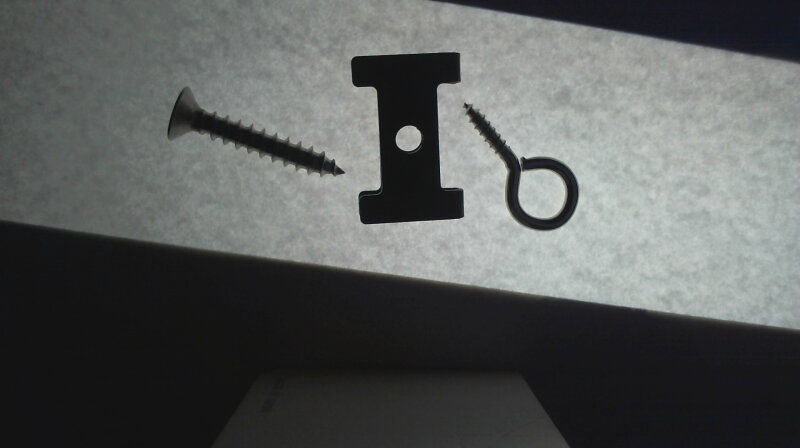O001: (463, 100, 581, 232)
O002: (347, 50, 469, 223)
S001: (164, 85, 348, 179)
